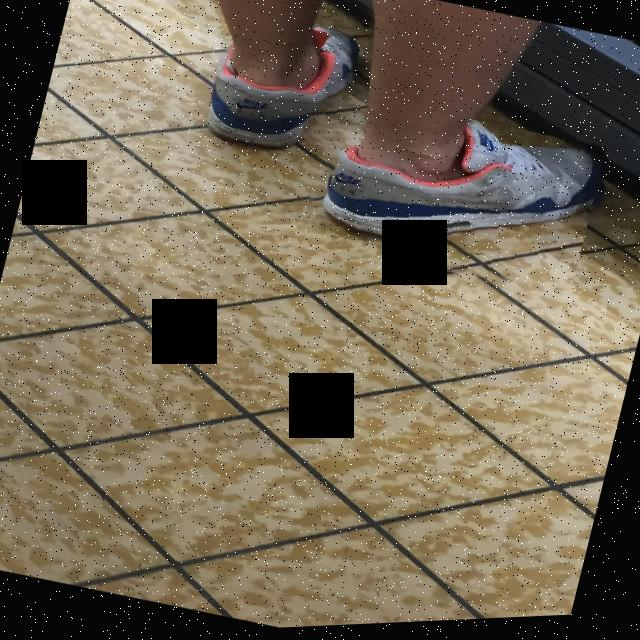shoe: (290, 84, 606, 318), (162, 0, 384, 190)
